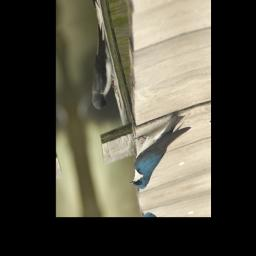Swallow: (120, 111, 199, 193)
